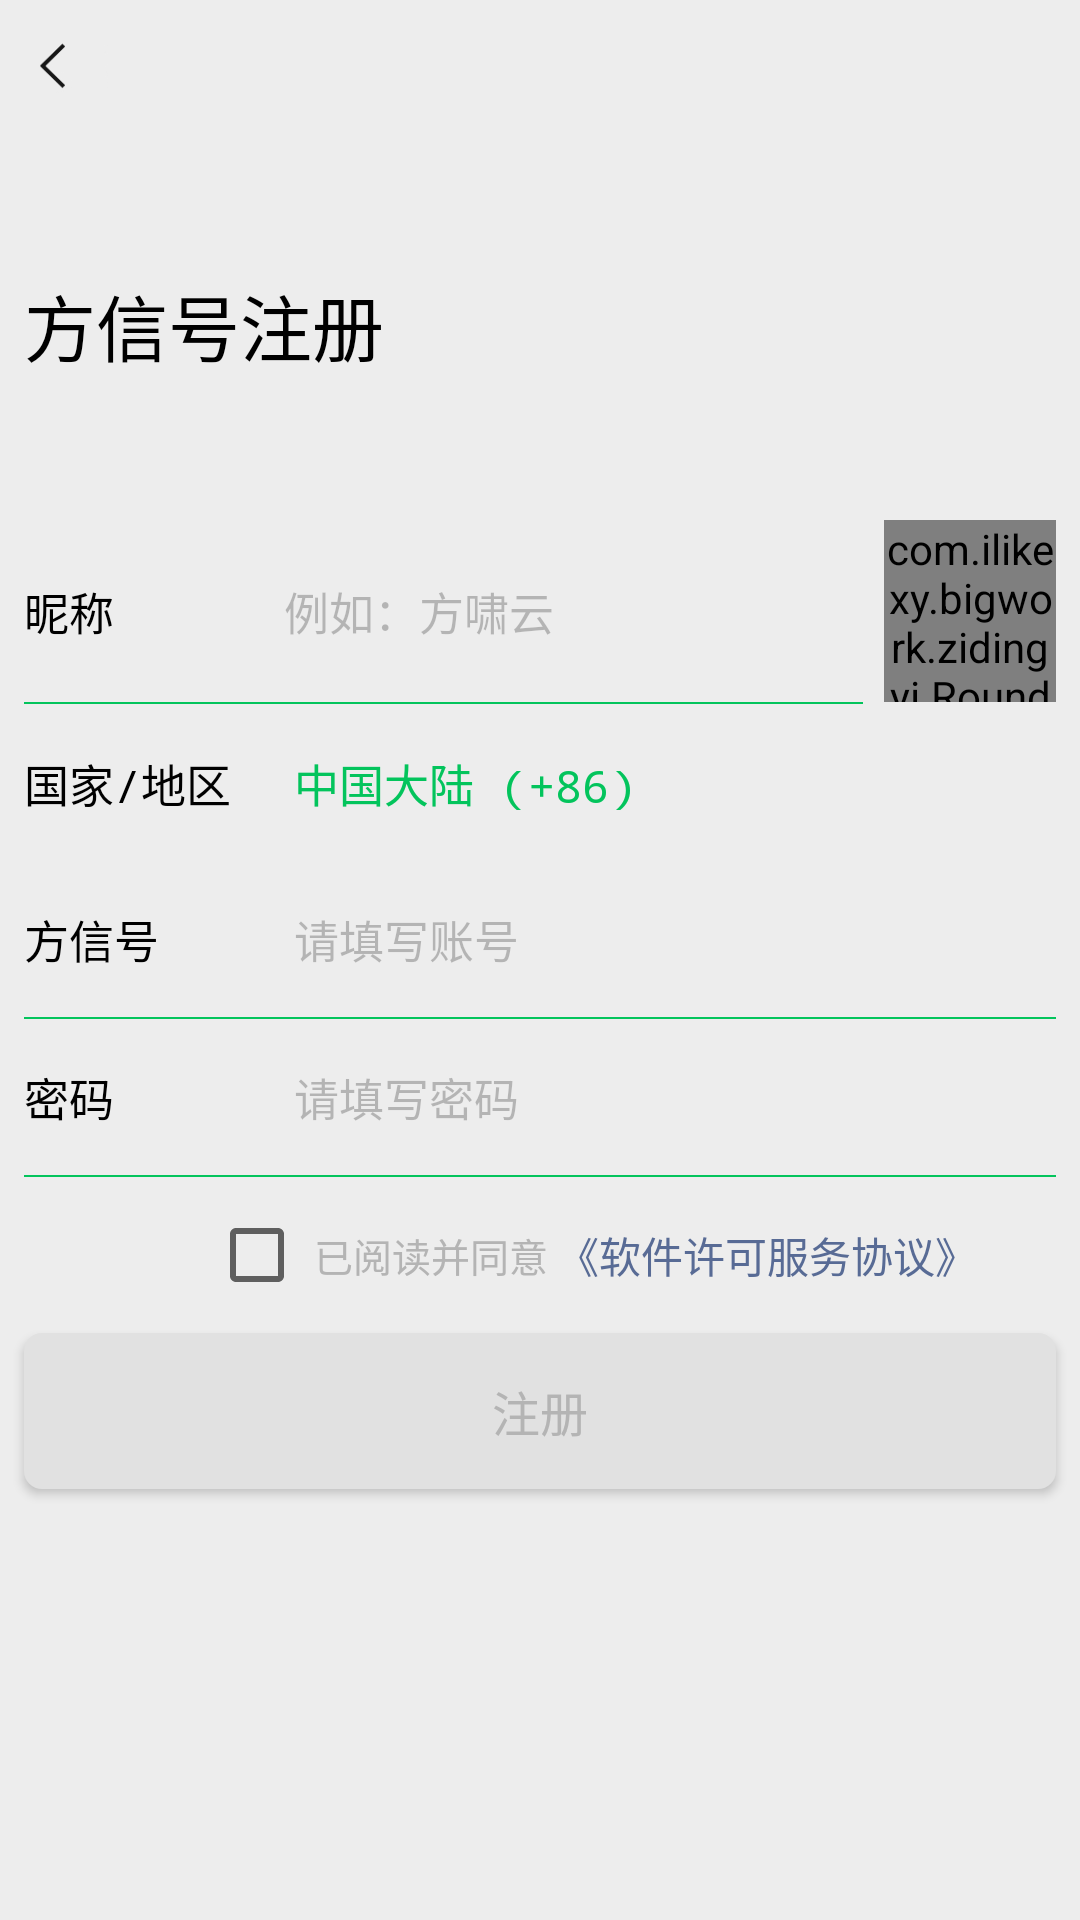

Named icons in this screenshot (1080*1920) and their bounding boxes, bbox(x1, y1, x2, y2):
back: bbox(40, 43, 65, 88)
